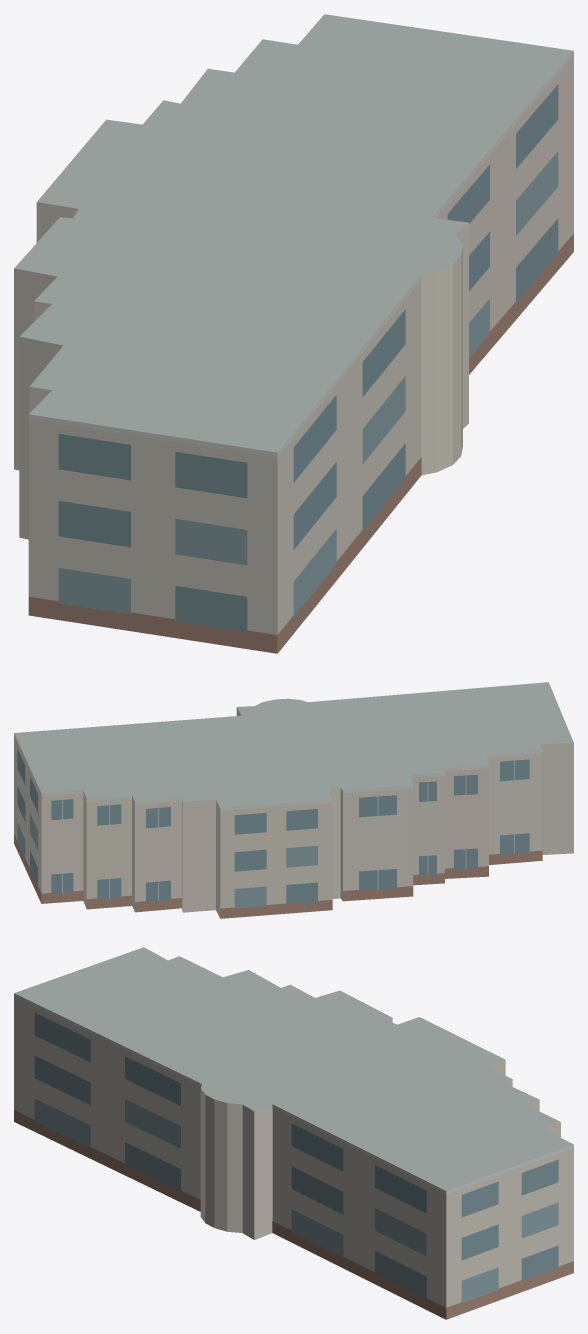
The model's file is survey-upis-32849224.glb.
3 renders of one model, top to bottom at view 1: azimuth 30°, elevation 25°; view 2: azimuth 150°, elevation 25°; view 3: azimuth 270°, elevation 25°, orthographic. The views are drawn at different scales.
Parts seen in each view (by area): view 1: survey-upis-32849224.tmp; view 2: survey-upis-32849224.tmp; view 3: survey-upis-32849224.tmp.
Part boxes in pixels (box(x1,y1,x2,y2)): survey-upis-32849224.tmp: box(14, 14, 573, 653); survey-upis-32849224.tmp: box(14, 682, 573, 918); survey-upis-32849224.tmp: box(14, 947, 573, 1319).
Size of the model in its own units: 37.21 by 9.15 by 36.09.
